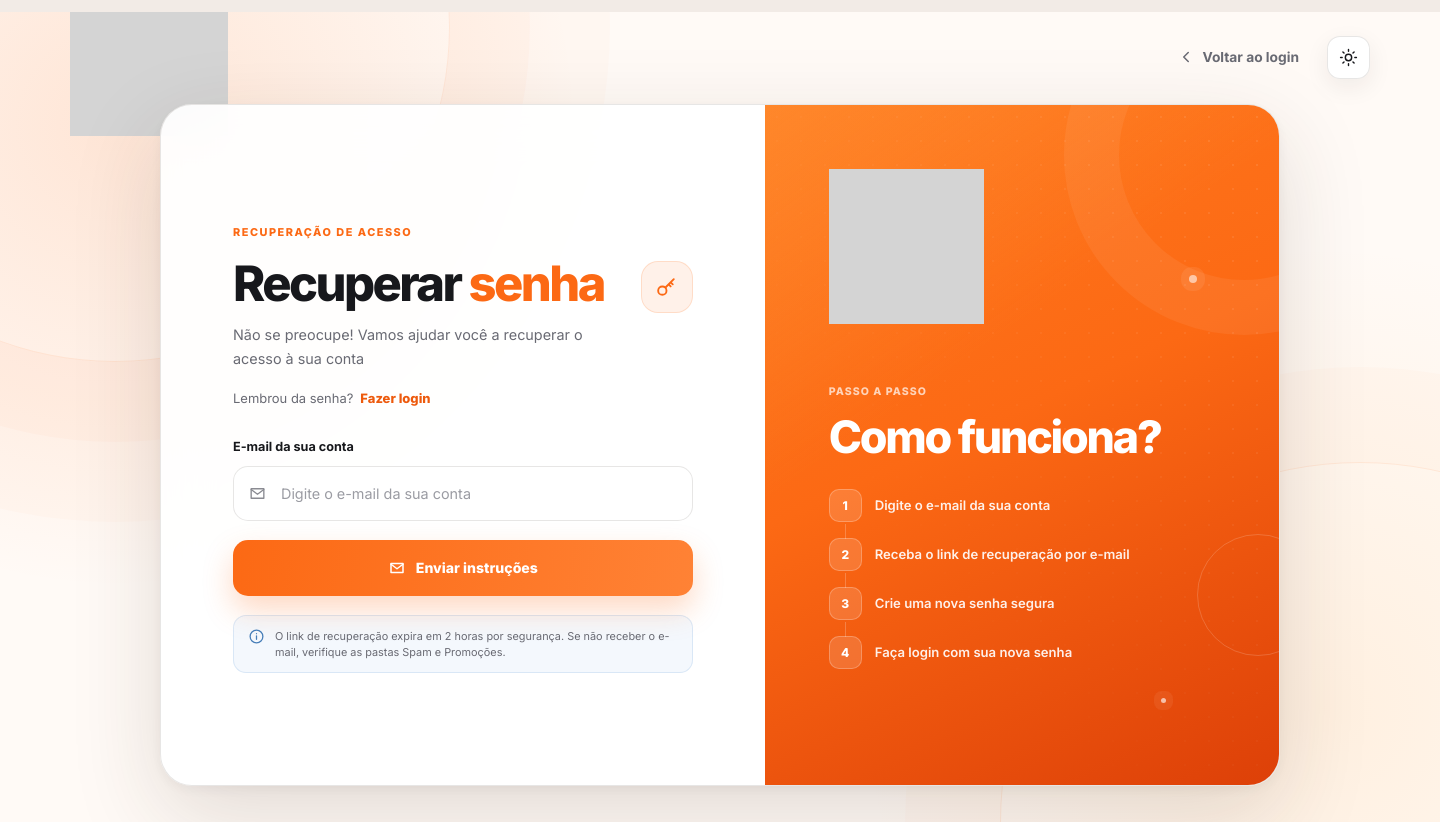
Test: experiência de recuperação de senha › valida o e-mail antes de enviar ao PHP
This screenshot has width=1440, height=822.
Step 1. Type "email-inválido" into the field labelled "E-mail da sua conta" → [486, 493], box [281, 467, 692, 520]
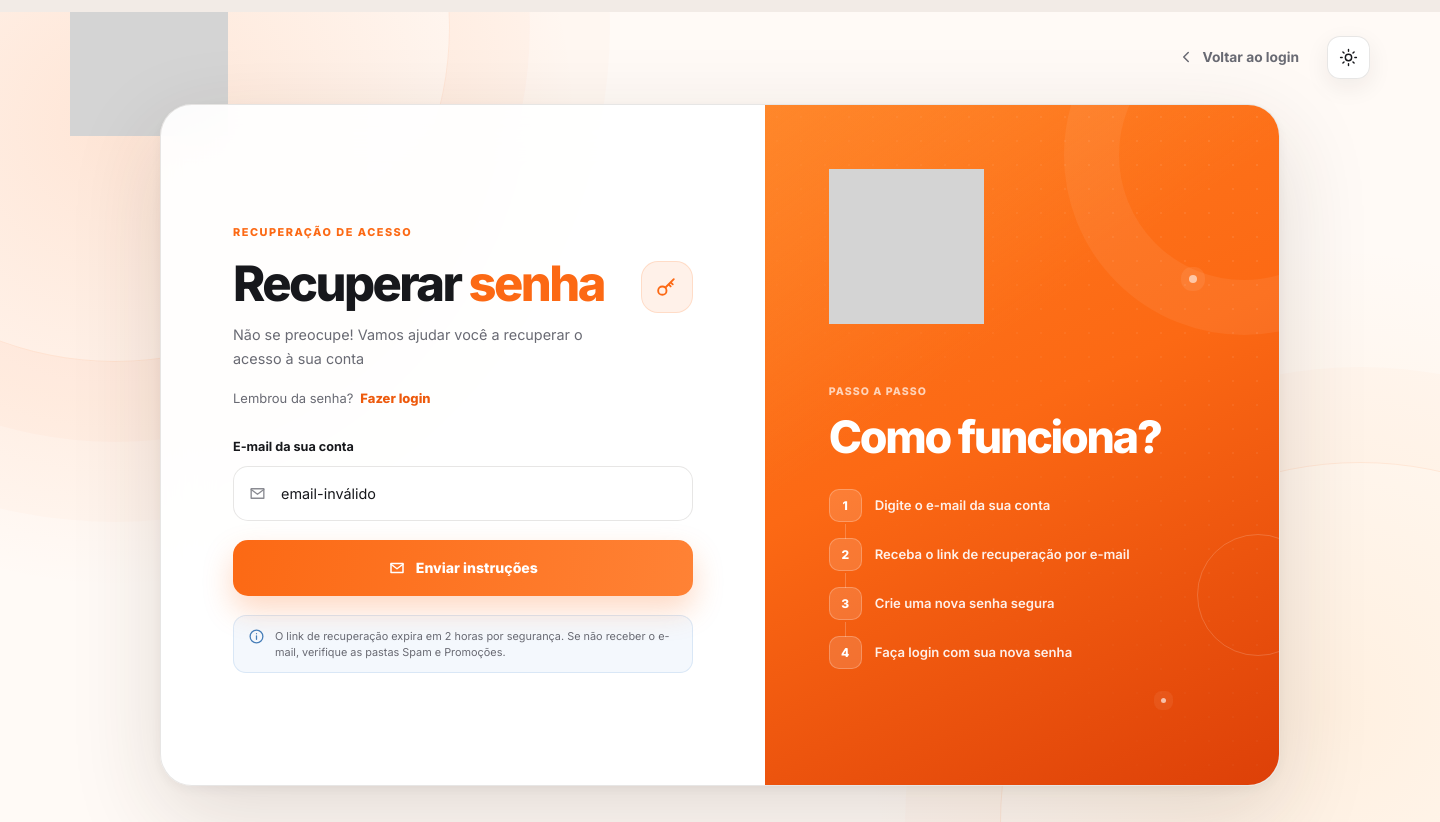
Step 2. Click the button "Enviar instruções" → [463, 568], box [233, 540, 693, 596]
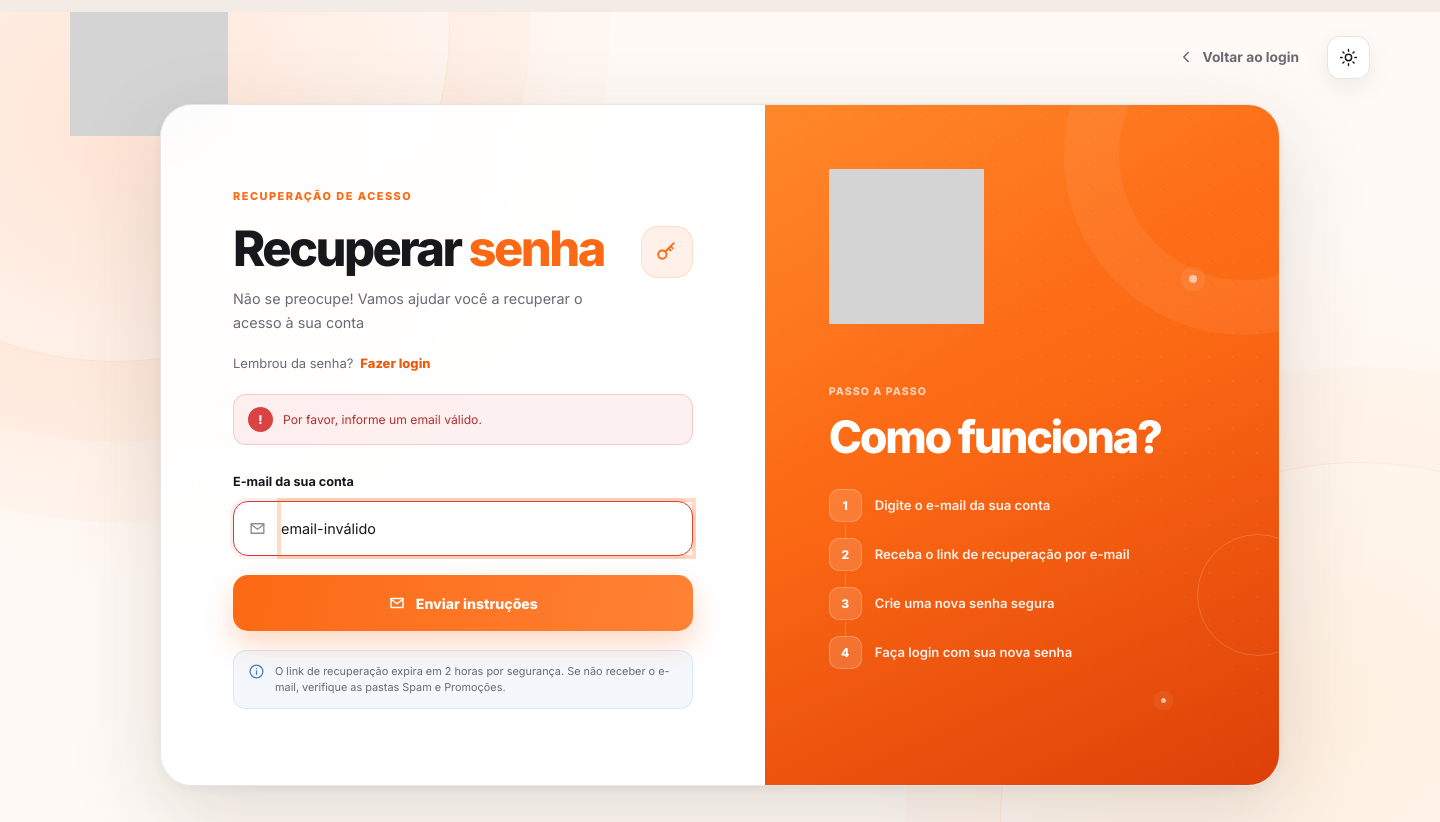
Now the message shows "Por favor, informe um email válido.", box [283, 412, 482, 427]
